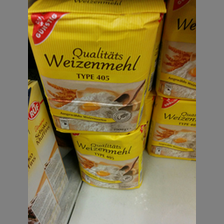flour: (28, 1, 167, 134), (68, 132, 146, 190), (149, 96, 195, 161)
